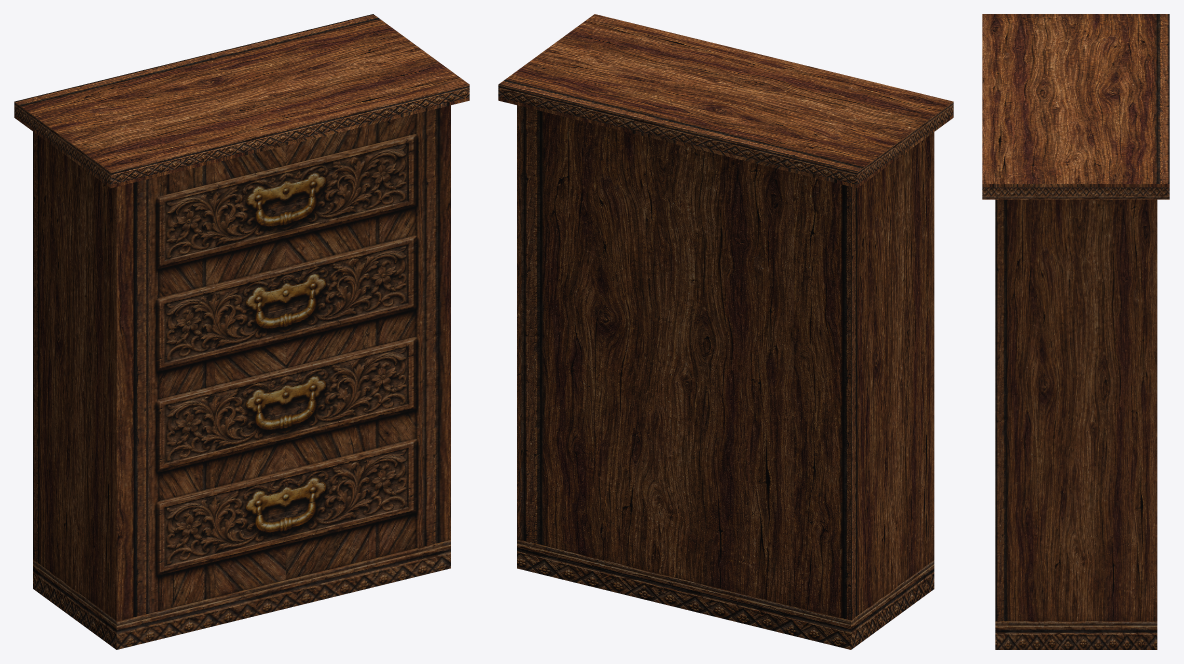
The model's file is mm9_deco_dresserfancy.glb.
The picture shows the model from 3 angles, left to right: view 1: azimuth 30°, elevation 25°; view 2: azimuth 150°, elevation 25°; view 3: azimuth 270°, elevation 25°; orthographic projection. The views are drawn at different scales.
Parts seen in each view (by area): view 1: Dresserfancy; view 2: Dresserfancy; view 3: Dresserfancy.
Boxes of the visible parts, x1,y1,x2,y2 form: Dresserfancy: (14,14,469,649); Dresserfancy: (498,14,953,649); Dresserfancy: (982,14,1169,649).
Size of the model in its own units: 1.34 by 1.73 by 0.6234.
Materials: 2 (2 with a texture image).
